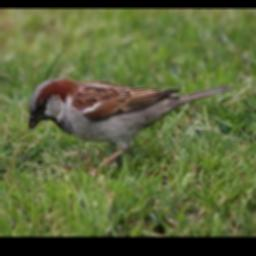Sparrow: (24, 76, 232, 178)
